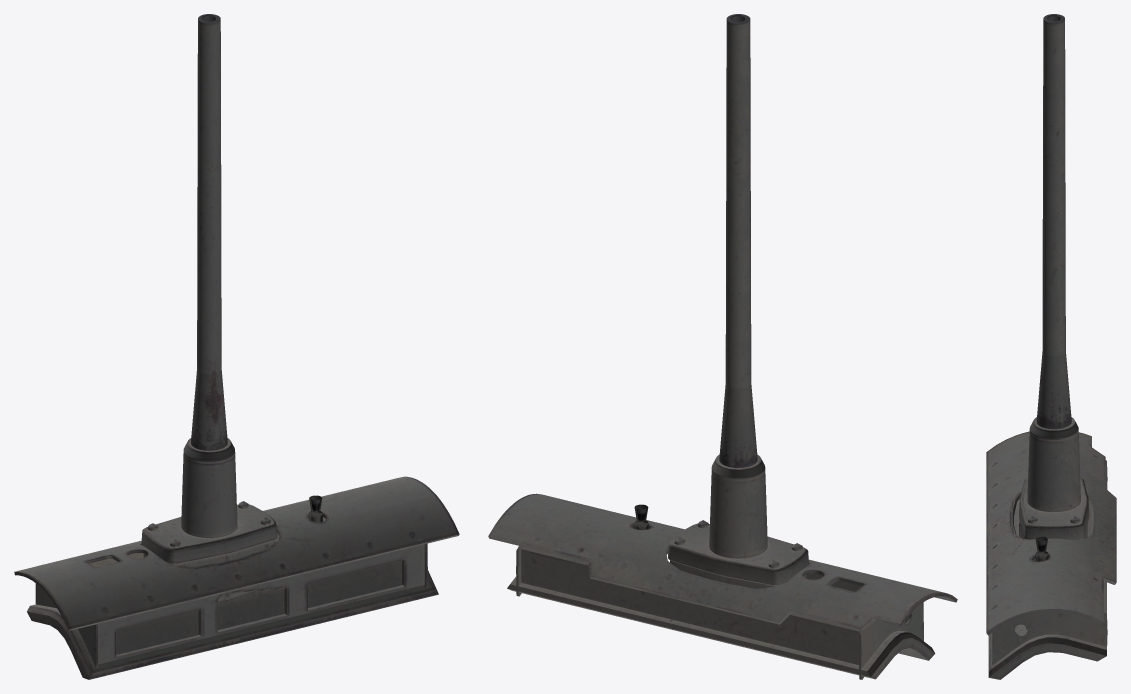
Rendered from Gun_06.glb.
The picture shows the model from 3 angles, left to right: view 1: azimuth 30°, elevation 25°; view 2: azimuth 150°, elevation 25°; view 3: azimuth 270°, elevation 25°; orthographic projection. The views are drawn at different scales.
Visible parts, largest first — view 1: set_0_group_0; view 2: set_0_group_0; view 3: set_0_group_0.
Part boxes in pixels (<box>): set_0_group_0: <box>14,14,459,679</box>; set_0_group_0: <box>488,14,957,679</box>; set_0_group_0: <box>986,14,1116,679</box>.
Bounding box in the file's own units: 1.6 × 2.35 × 0.4861.
Materials: 1 (1 with a texture image).
